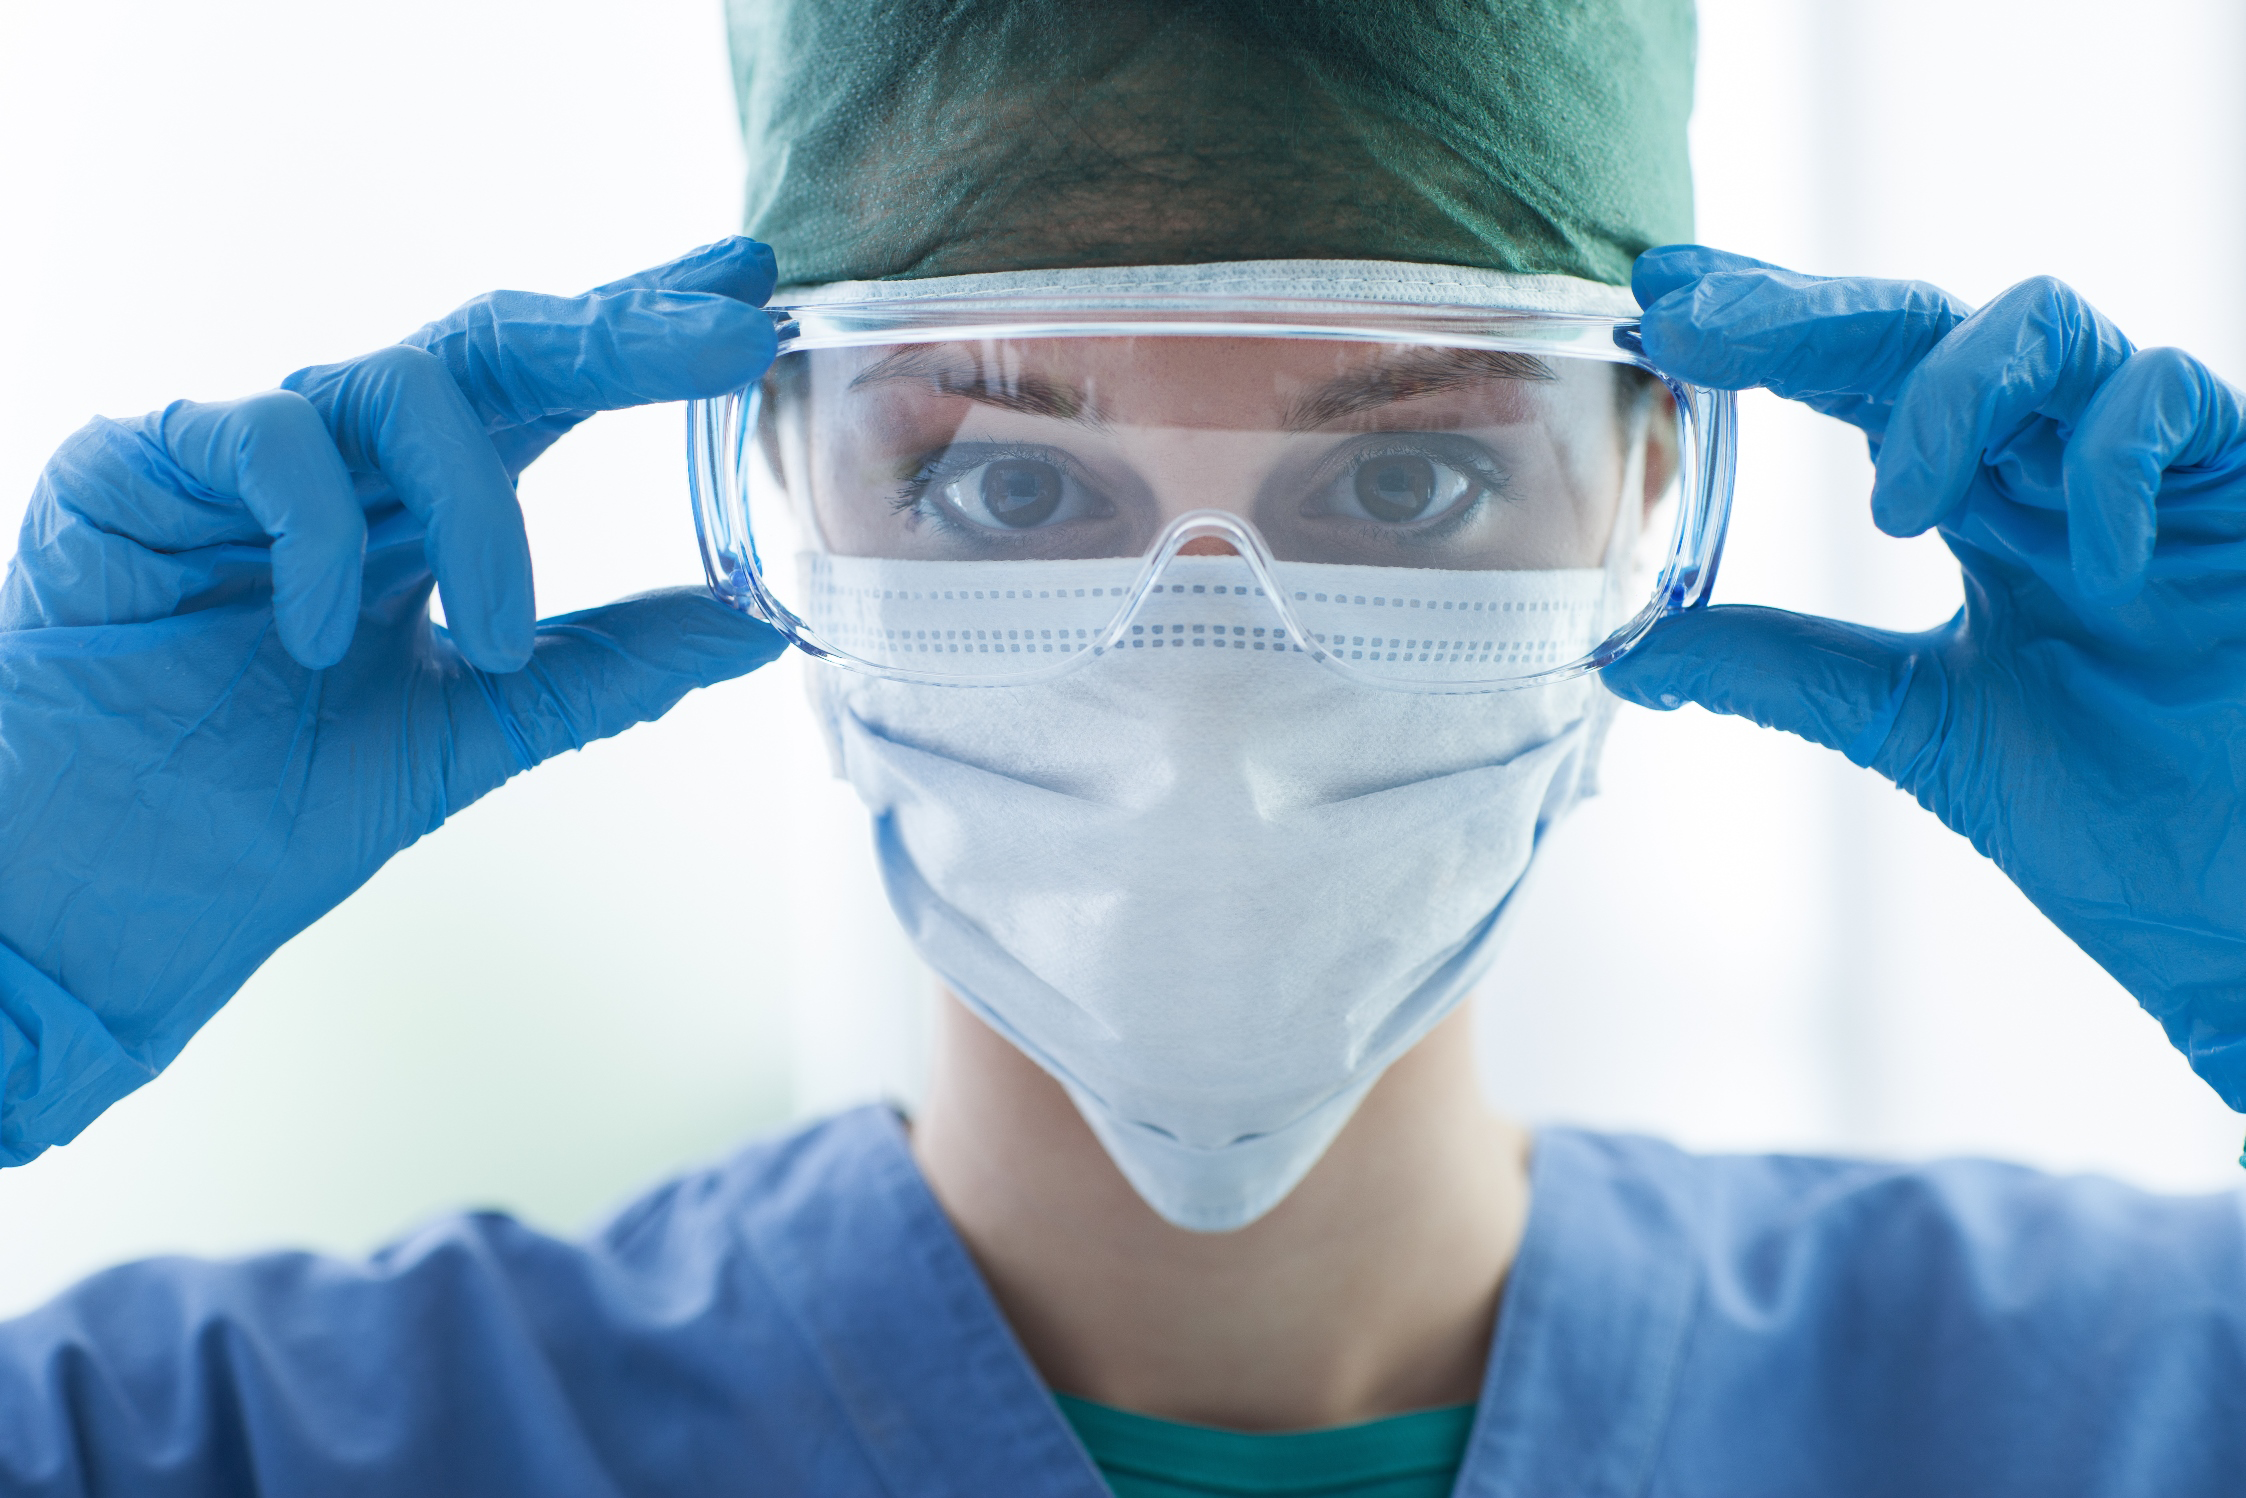Gloves: (3, 239, 796, 1176), (1603, 237, 2246, 1130)
Goggles: (670, 255, 1745, 690)
with_mask: (741, 406, 1608, 1239)
